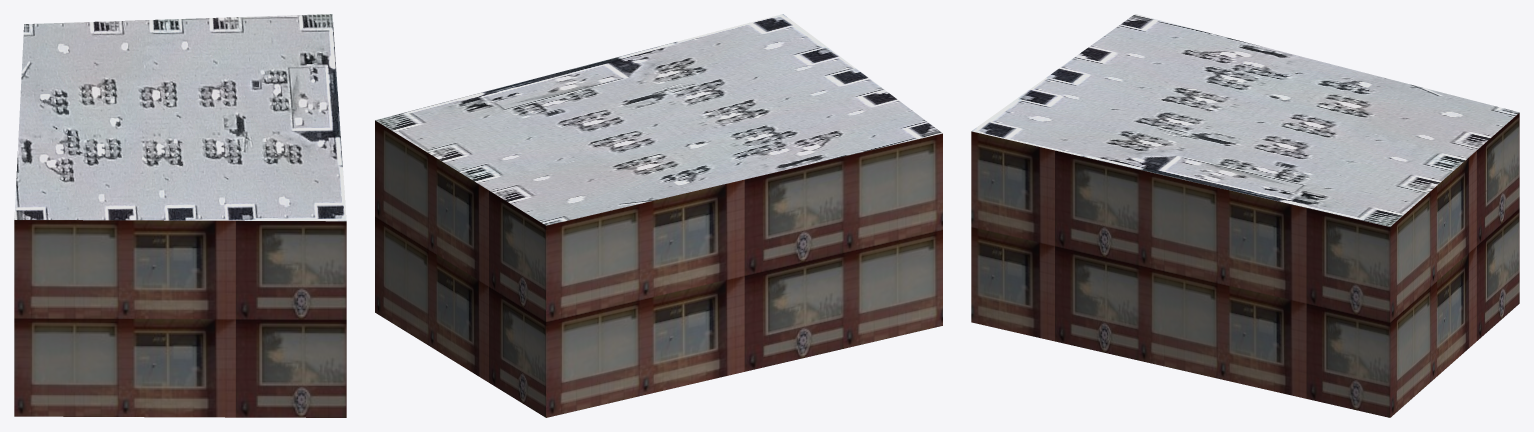
File: ResTex__747.fbx
3 views of the same model, side by side, from view 1: azimuth 30°, elevation 25°; view 2: azimuth 150°, elevation 25°; view 3: azimuth 270°, elevation 25° (orthographic). The views are drawn at different scales.
Visible parts, largest first — view 1: CityEngineMaterial_13_m, CityEngineMaterial_4_m; view 2: CityEngineMaterial_13_m, CityEngineMaterial_4_m; view 3: CityEngineMaterial_13_m, CityEngineMaterial_4_m.
Boxes of the visible parts, x1,y1,x2,y2 form: CityEngineMaterial_13_m: (14,220,346,417); CityEngineMaterial_4_m: (14,14,346,221); CityEngineMaterial_13_m: (375,120,942,417); CityEngineMaterial_4_m: (375,14,942,225); CityEngineMaterial_13_m: (971,113,1519,417); CityEngineMaterial_4_m: (971,14,1519,226).
Bounding box in the file's own units: 14.35 × 6 × 15.62.
Materials: 2 (2 with a texture image).
